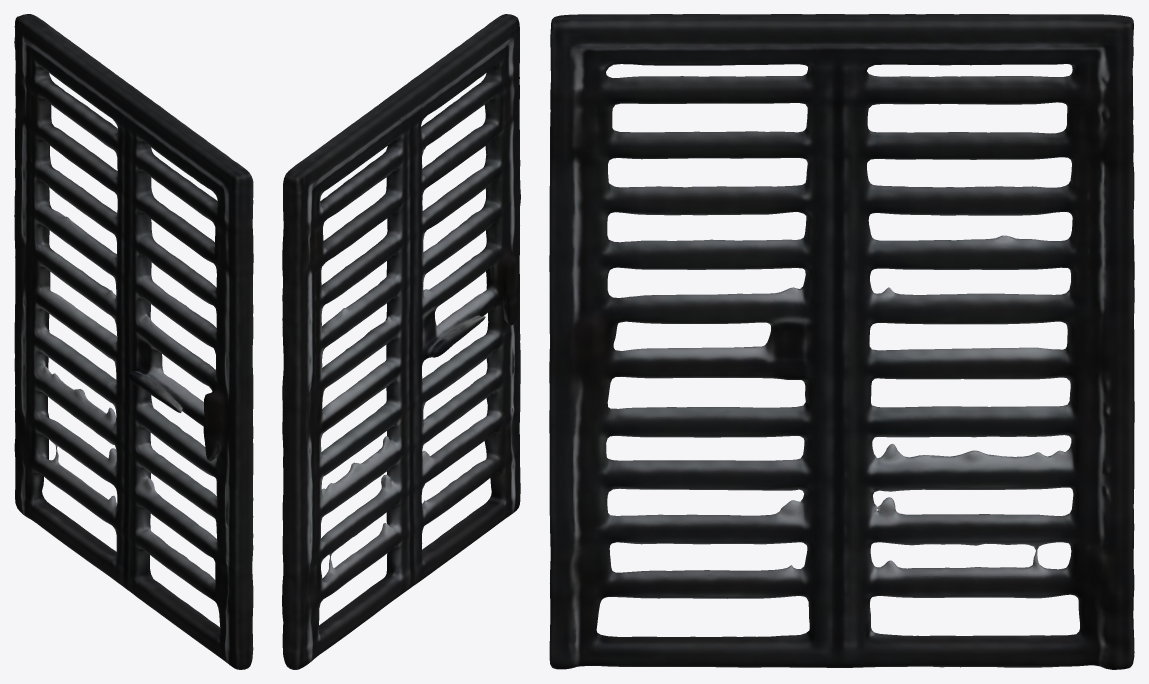
Rendered from door.glb.
3 renders of one model, left to right at view 1: azimuth 30°, elevation 25°; view 2: azimuth 150°, elevation 25°; view 3: azimuth 270°, elevation 25°, orthographic. The views are drawn at different scales.
Visible parts, largest first — view 1: high_poly; view 2: high_poly; view 3: high_poly.
Boxes of the visible parts, <box> form: high_poly: <box>14,14,253,669</box>; high_poly: <box>282,14,520,669</box>; high_poly: <box>549,14,1134,669</box>.
Bounding box in the file's own units: 0.0705 × 1 × 0.8156.
1 material, 1 textured.
